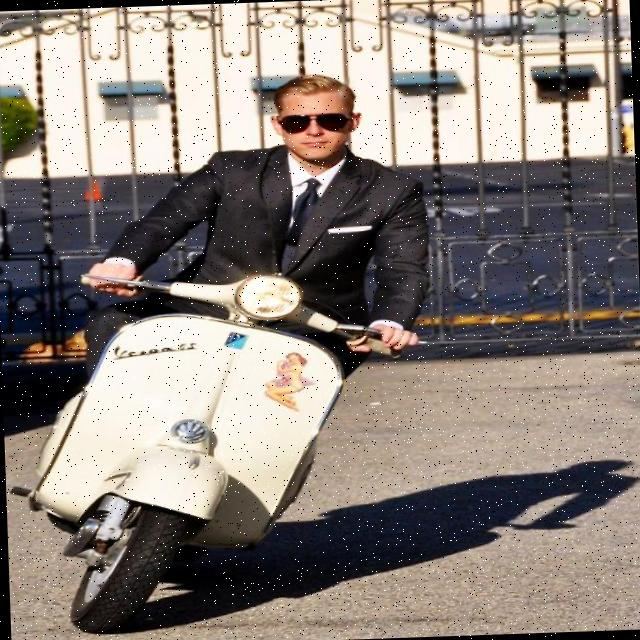No helmet: (268, 72, 368, 170)
